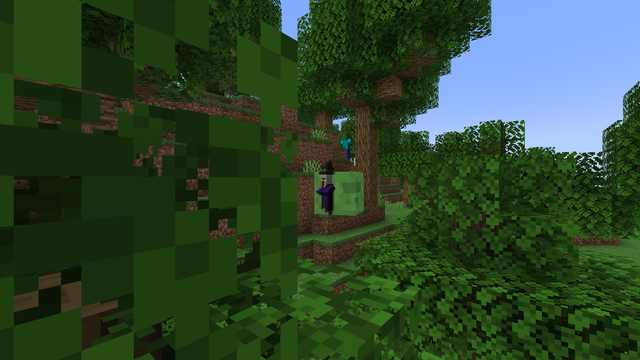slimes: (310, 169, 368, 215)
sorcieres: (318, 172, 331, 214)
zombies: (340, 132, 351, 160)
